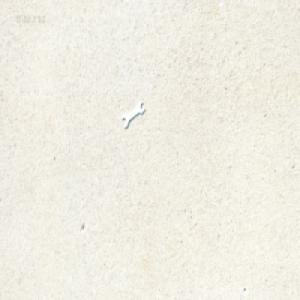Wrench: (123, 100, 146, 128)
